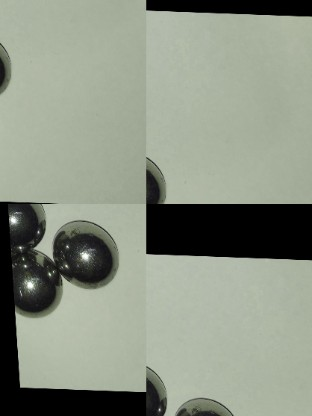ironball: (54, 218, 117, 289), (12, 251, 64, 319), (0, 201, 53, 248), (145, 364, 172, 414), (175, 392, 233, 414)
